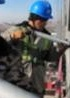hard-hat: (0, 0, 30, 27)
ppe-suit: (0, 49, 35, 98)
